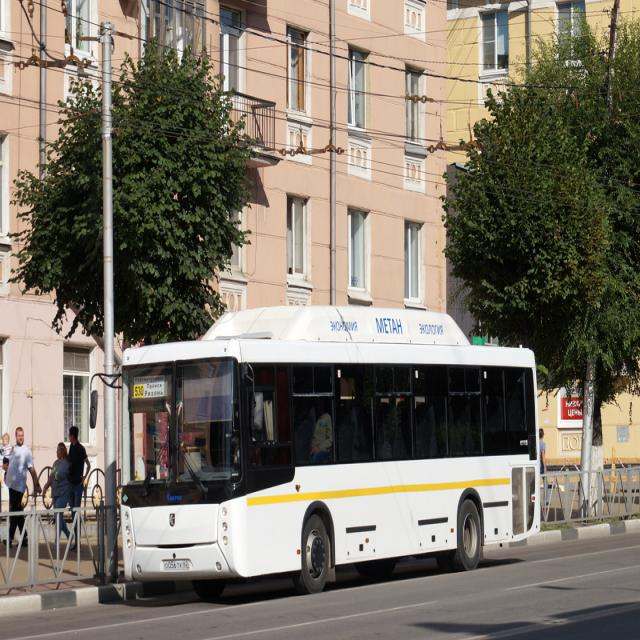number-of-bus: (135, 385, 146, 398)
